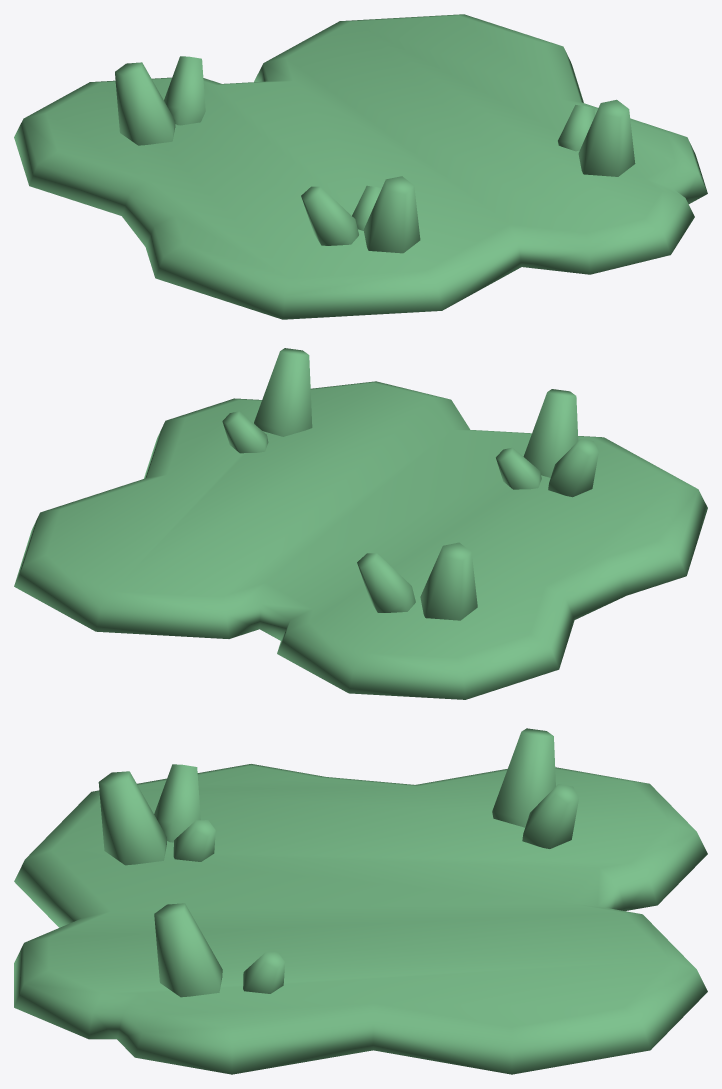
Rendered from patch-grass.glb.
The picture shows the model from 3 angles, top to bottom: view 1: azimuth 30°, elevation 25°; view 2: azimuth 150°, elevation 25°; view 3: azimuth 270°, elevation 25°; orthographic projection. The views are drawn at different scales.
Visible parts, largest first — view 1: patch-grass; view 2: patch-grass; view 3: patch-grass.
Boxes of the visible parts, x1,y1,x2,y2 form: patch-grass: (14, 14, 707, 319); patch-grass: (14, 348, 707, 699); patch-grass: (14, 728, 707, 1074).
Size of the model in its own units: 1 by 0.171 by 1.
Materials: 1 (1 with a texture image).
